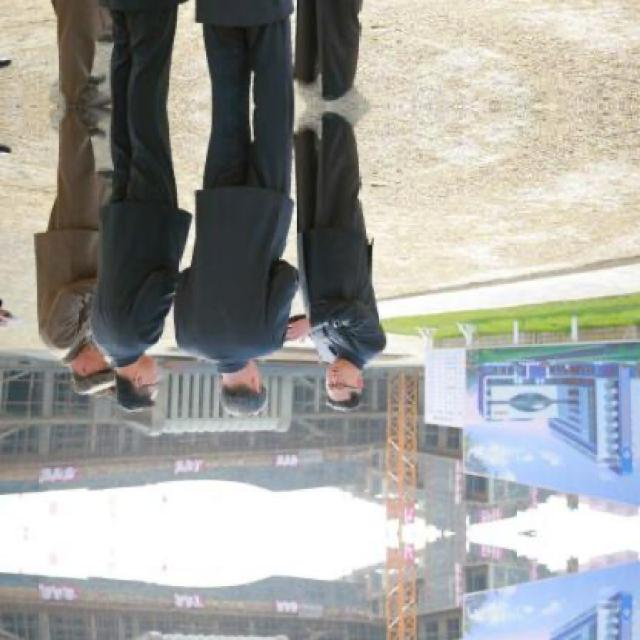sin casco: (316, 346, 378, 422), (206, 358, 268, 426), (107, 389, 176, 424), (61, 364, 125, 401)
